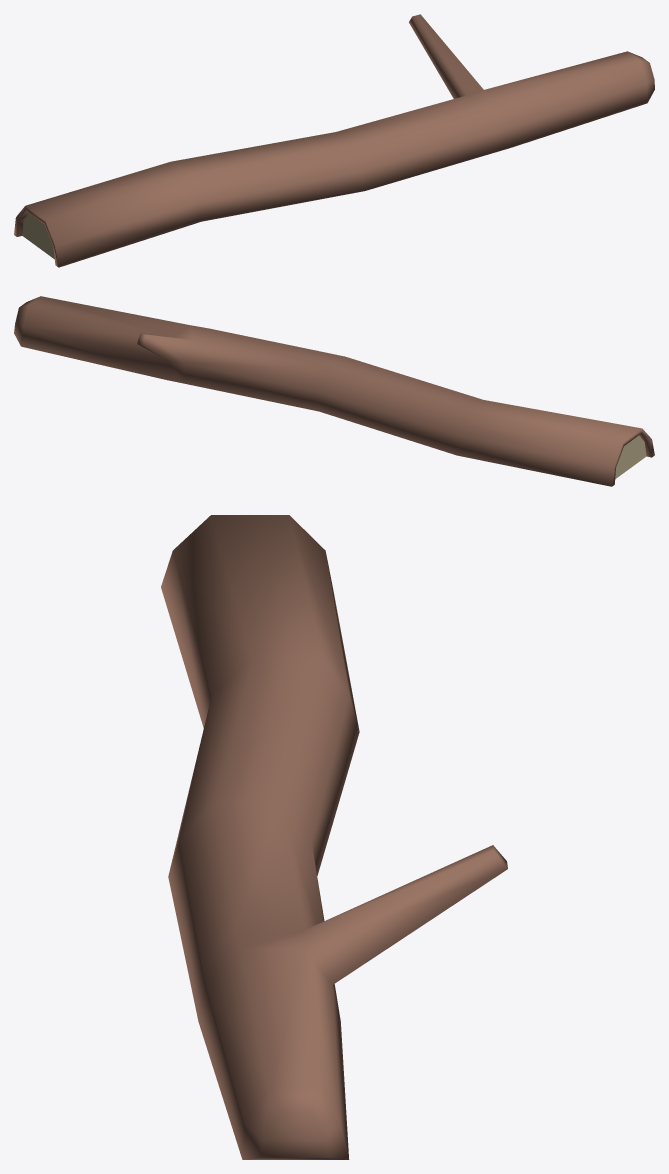
The model's file is Log_LightBrown.fbx.
3 renders of one model, top to bottom at view 1: azimuth 30°, elevation 25°; view 2: azimuth 150°, elevation 25°; view 3: azimuth 270°, elevation 25°, orthographic. The views are drawn at different scales.
Visible parts, largest first — view 1: Cube_278, Cube_279; view 2: Cube_278, Cube_279; view 3: Cube_278.
Part boxes in pixels (x1=…): Cube_278: x1=14, y1=14, x2=654, y2=267; Cube_279: x1=22, y1=213, x2=54, y2=258; Cube_278: x1=14, y1=296, x2=654, y2=486; Cube_279: x1=615, y1=435, x2=646, y2=478; Cube_278: x1=161, y1=515, x2=507, y2=1159.
Bounding box in the file's own units: 513 × 63.59 × 129.
